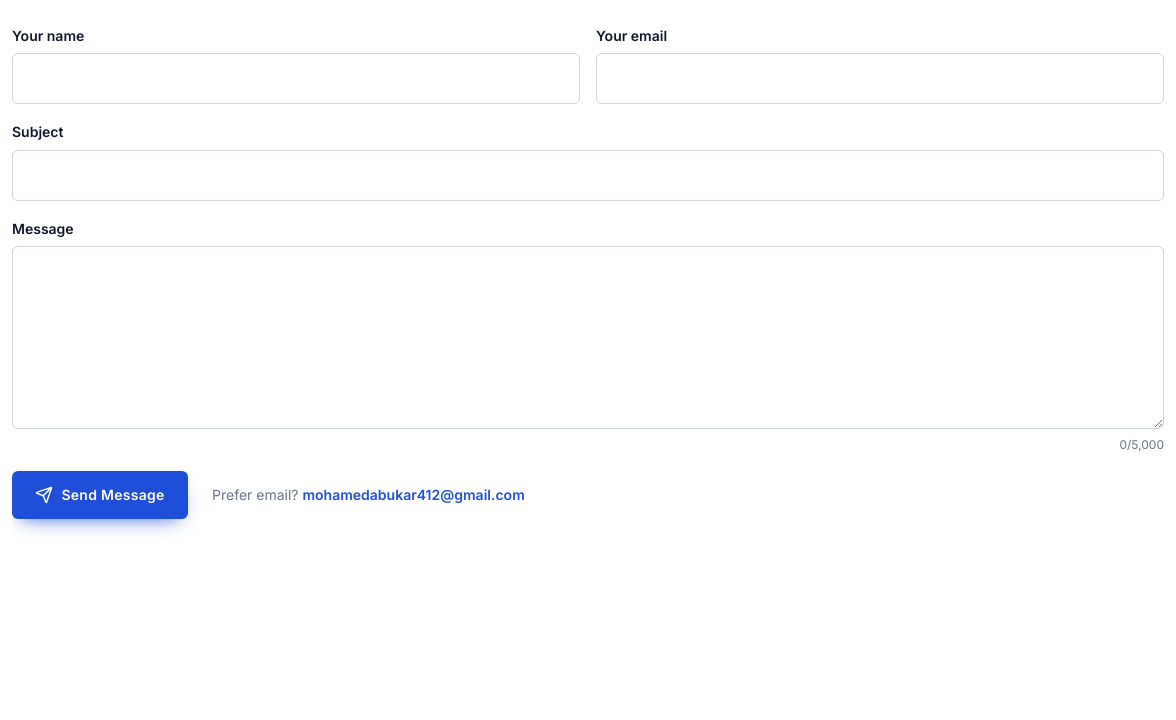
Test: ContactForm › shows the server error and keeps the entered values when sending fails
Type "Jane Doe" into the field labelled "Your name".
click(296, 79); type("Jane Doe")  # box [12,54,580,104]
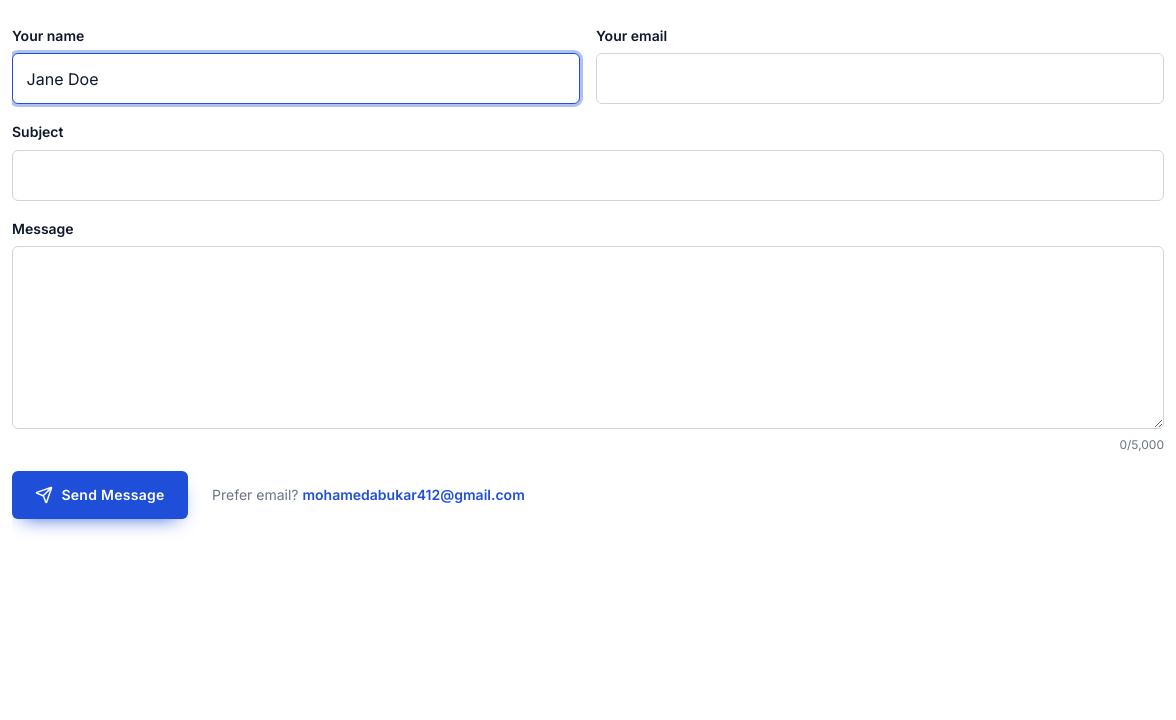
Type "jane@example.com" into the field labelled "Your email".
click(880, 79); type("jane@example.com")  # box [596,54,1164,104]
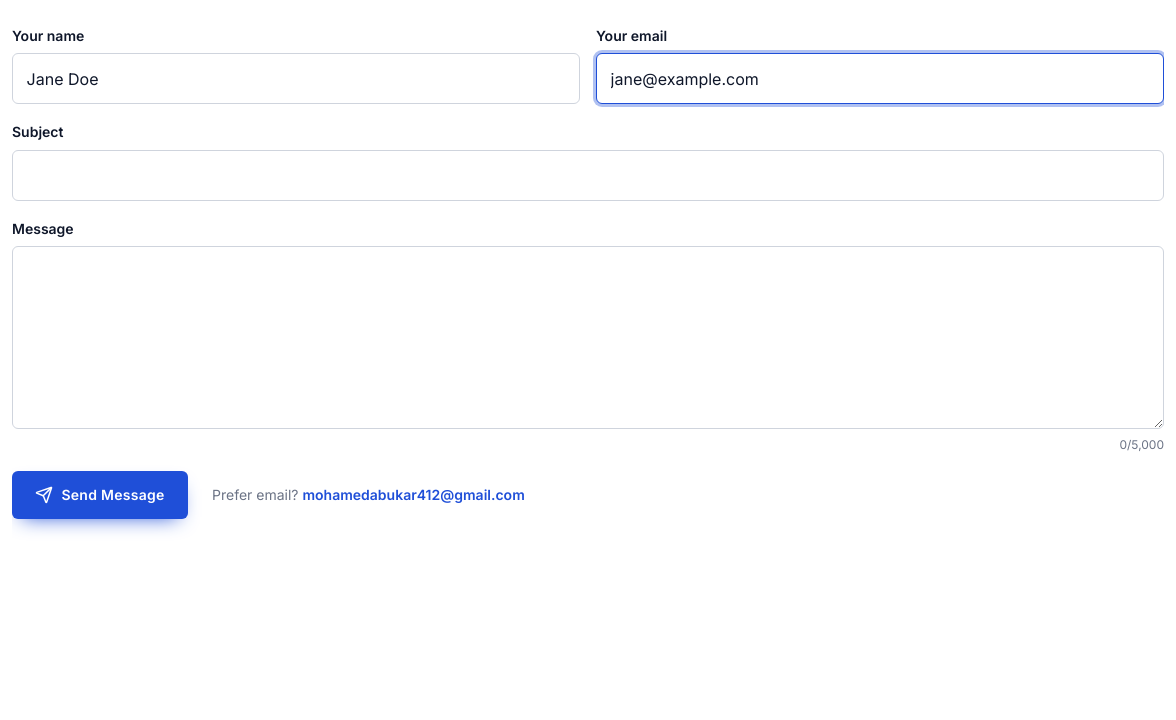
Type "Project enquiry" into the field labelled "Subject".
click(588, 175); type("Project enquiry")  # box [12,150,1164,200]
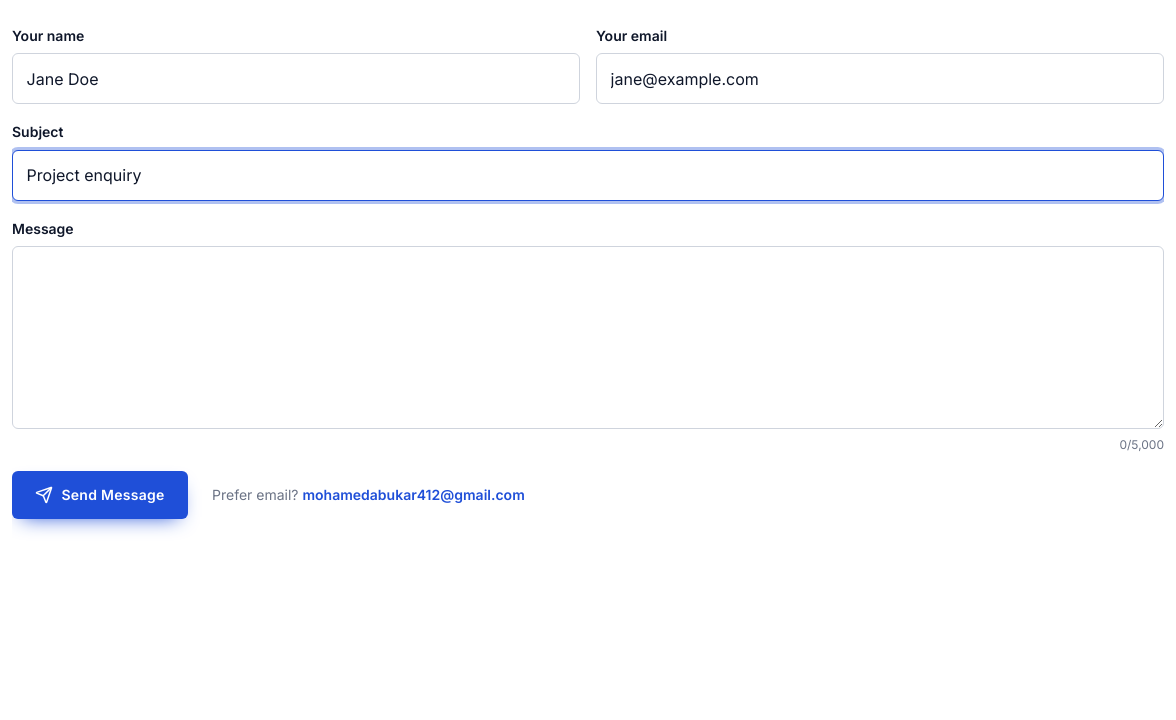
Type "Hello, I would like to talk about a project." into the text box labelled "Message".
click(588, 337); type("Hello, I would like to talk about a project.")  # box [12,246,1164,429]
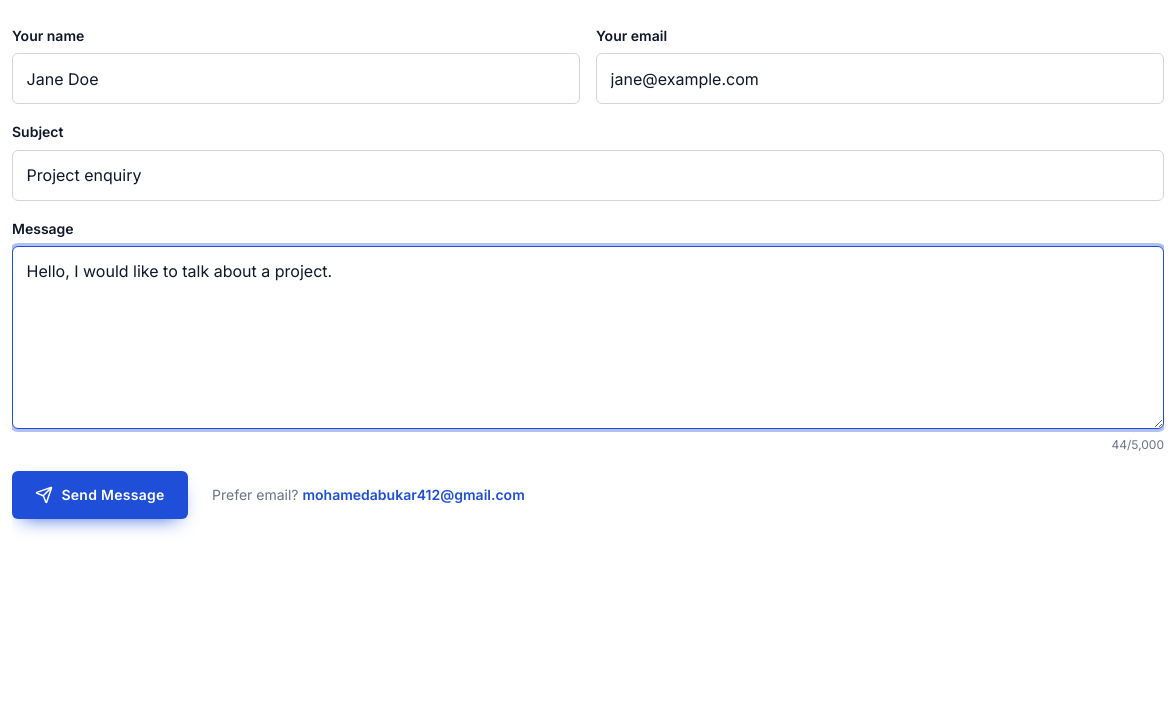
Click the button "Send Message".
click(100, 495)  # box [12,471,188,519]
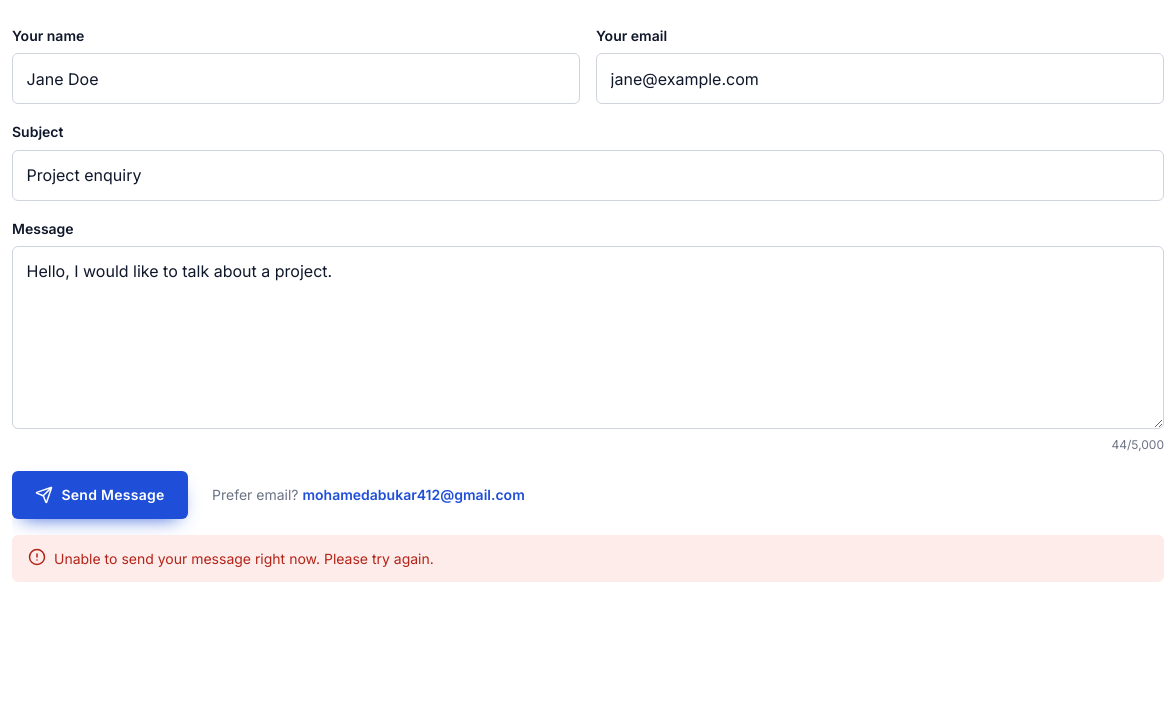
Now the text "Unable to send your message right now. Please try again." is shown, box [54,547,434,570]
